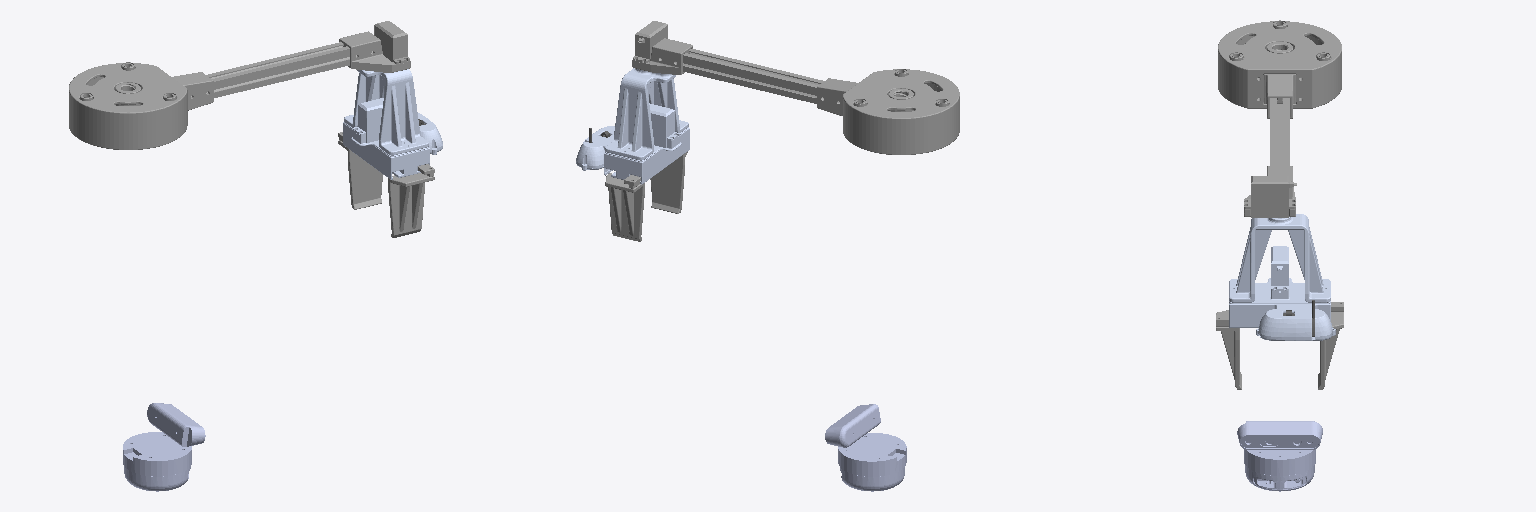
robot.urdf — robot_description:
<?xml version="1.0" encoding="utf-8"?>
<!-- This URDF was automatically created by SolidWorks to URDF Exporter! Originally created by Stephen Brawner (brawner@gmail.com) 
     Commit Version: 1.6.0-4-g7f85cfe  Build Version: 1.6.7995.38578
     For more information, please see http://wiki.ros.org/sw_urdf_exporter -->
<robot
  name="robot_description">
  <link
    name="base_link">
    <inertial>
      <origin
        xyz="-0.034206 -0.002397 0.14483"
        rpy="0 0 0" />
      <mass
        value="7.5407" />
      <inertia
        ixx="0.027945"
        ixy="0.00029698"
        ixz="-8.7589E-06"
        iyy="0.031422"
        iyz="-6.7542E-06"
        izz="0.049066" />
    </inertial>
    <visual>
      <origin
        xyz="0 0 0"
        rpy="0 0 0" />
      <geometry>
        <mesh
          filename="package://robot_description/meshes/base_link.STL" />
      </geometry>
      <material
        name="">
        <color
          rgba="0.96863 0.96863 0.96863 1" />
      </material>
    </visual>
    <collision>
      <origin
        xyz="0 0 0"
        rpy="0 0 0" />
      <geometry>
        <mesh
          filename="package://robot_description/meshes/base_link.STL" />
      </geometry>
    </collision>
  </link>
  <link
    name="realsense_link">
    <inertial>
      <origin
        xyz="-0.0093119 0.011675 -9.1029E-08"
        rpy="0 0 0" />
      <mass
        value="0.04367" />
      <inertia
        ixx="2.6188E-05"
        ixy="2.9211E-07"
        ixz="-1.0282E-11"
        iyy="3.827E-06"
        iyz="-4.6221E-13"
        izz="2.6361E-05" />
    </inertial>
    <visual>
      <origin
        xyz="0 0 0"
        rpy="0 0 0" />
      <geometry>
        <mesh
          filename="package://robot_description/meshes/realsense_link.STL" />
      </geometry>
      <material
        name="">
        <color
          rgba="0.79216 0.81961 0.93333 1" />
      </material>
    </visual>
    <collision>
      <origin
        xyz="0 0 0"
        rpy="0 0 0" />
      <geometry>
        <mesh
          filename="package://robot_description/meshes/realsense_link.STL" />
      </geometry>
    </collision>
  </link>
  <joint
    name="realsense_joint"
    type="fixed">
    <origin
      xyz="0.28778 -0.01075 0.078041"
      rpy="0 0.17453 0" />
    <parent
      link="base_link" />
    <child
      link="realsense_link" />
    <axis
      xyz="0 0 0" />
  </joint>
  <link
    name="lidar_link">
    <inertial>
      <origin
        xyz="-0.00057135 -1.4925E-05 -0.011704"
        rpy="0 0 0" />
      <mass
        value="0.16535" />
      <inertia
        ixx="7.8847E-05"
        ixy="4.8471E-08"
        ixz="2.1973E-06"
        iyy="7.5152E-05"
        iyz="2.8868E-08"
        izz="0.0001099" />
    </inertial>
    <visual>
      <origin
        xyz="0 0 0"
        rpy="0 0 0" />
      <geometry>
        <mesh
          filename="package://robot_description/meshes/lidar_link.STL" />
      </geometry>
      <material
        name="">
        <color
          rgba="0.79216 0.81961 0.93333 1" />
      </material>
    </visual>
    <collision>
      <origin
        xyz="0 0 0"
        rpy="0 0 0" />
      <geometry>
        <mesh
          filename="package://robot_description/meshes/lidar_link.STL" />
      </geometry>
    </collision>
  </link>
  <joint
    name="lidar_joint"
    type="fixed">
    <origin
      xyz="0.256 0 0.0275"
      rpy="3.1416 0 0" />
    <parent
      link="base_link" />
    <child
      link="lidar_link" />
    <axis
      xyz="0 0 0" />
  </joint>
  <link
    name="plat_link">
    <inertial>
      <origin
        xyz="0.00028579 -6.5258E-07 0.30216"
        rpy="0 0 0" />
      <mass
        value="2.4228" />
      <inertia
        ixx="0.02794"
        ixy="4.2626E-09"
        ixz="1.1416E-05"
        iyy="0.02792"
        iyz="7.5625E-09"
        izz="0.0013138" />
    </inertial>
    <visual>
      <origin
        xyz="0 0 0"
        rpy="0 0 0" />
      <geometry>
        <mesh
          filename="package://robot_description/meshes/plat_link.STL" />
      </geometry>
      <material
        name="">
        <color
          rgba="0.69804 0.69804 0.69804 1" />
      </material>
    </visual>
    <collision>
      <origin
        xyz="0 0 0"
        rpy="0 0 0" />
      <geometry>
        <mesh
          filename="package://robot_description/meshes/plat_link.STL" />
      </geometry>
    </collision>
  </link>
  <joint
    name="plat_joint"
    type="revolute">
    <origin
      xyz="0.219 0 0.1355"
      rpy="0 0 0" />
    <parent
      link="base_link" />
    <child
      link="plat_link" />
    <axis
      xyz="0 0 1" />
    <limit
      lower="-3.491"
      upper="3.491"
      effort="100"
      velocity="0.8727" />
  </joint>
  <link
    name="elev_link">
    <inertial>
      <origin
        xyz="0.058866 -0.00077343 0.34304"
        rpy="0 0 0" />
      <mass
        value="0.70977" />
      <inertia
        ixx="0.00048863"
        ixy="1.565E-06"
        ixz="-3.5651E-06"
        iyy="0.00091576"
        iyz="-1.5426E-06"
        izz="0.0012262" />
    </inertial>
    <visual>
      <origin
        xyz="0 0 0"
        rpy="0 0 0" />
      <geometry>
        <mesh
          filename="package://robot_description/meshes/elev_link.STL" />
      </geometry>
      <material
        name="">
        <color
          rgba="0.69804 0.69804 0.69804 1" />
      </material>
    </visual>
    <collision>
      <origin
        xyz="0 0 0"
        rpy="0 0 0" />
      <geometry>
        <mesh
          filename="package://robot_description/meshes/elev_link.STL" />
      </geometry>
    </collision>
  </link>
  <joint
    name="elev_joint"
    type="prismatic">
    <origin
      xyz="0 0 0"
      rpy="0 0 0" />
    <parent
      link="plat_link" />
    <child
      link="elev_link" />
    <axis
      xyz="0 0 1" />
    <limit
      lower="0"
      upper="0.3"
      effort="100"
      velocity="0.05" />
  </joint>
  <link
    name="pulso_link">
    <inertial>
      <origin
        xyz="0.0030145 0.0018825 -0.12017"
        rpy="0 0 0" />
      <mass
        value="0.2678" />
      <inertia
        ixx="0.00029745"
        ixy="-1.2739E-05"
        ixz="-1.225E-06"
        iyy="0.0001697"
        iyz="-1.8633E-06"
        izz="0.00028197" />
    </inertial>
    <visual>
      <origin
        xyz="0 0 0"
        rpy="0 0 0" />
      <geometry>
        <mesh
          filename="package://robot_description/meshes/pulso_link.STL" />
      </geometry>
      <material
        name="">
        <color
          rgba="0.86667 0.9098 1 1" />
      </material>
    </visual>
    <collision>
      <origin
        xyz="0 0 0"
        rpy="0 0 0" />
      <geometry>
        <mesh
          filename="package://robot_description/meshes/pulso_link.STL" />
      </geometry>
    </collision>
  </link>
  <joint
    name="pulso_joint"
    type="revolute">
    <origin
      xyz="0.32581 0 0.36404"
      rpy="0 0 0" />
    <parent
      link="elev_link" />
    <child
      link="pulso_link" />
    <axis
      xyz="0 0 -1" />
    <limit
      lower="-0.7854"
      upper="0.7854"
      effort="100"
      velocity="0.5236" />
  </joint>
  <link
    name="garra1_link">
    <inertial>
      <origin
        xyz="-0.0050164 -0.041901 -0.058499"
        rpy="0 0 0" />
      <mass
        value="0.04339" />
      <inertia
        ixx="2.0741E-05"
        ixy="-9.1194E-08"
        ixz="-1.6141E-07"
        iyy="1.9114E-05"
        iyz="-1.9833E-06"
        izz="9.6761E-06" />
    </inertial>
    <visual>
      <origin
        xyz="0 0 0"
        rpy="0 0 0" />
      <geometry>
        <mesh
          filename="package://robot_description/meshes/garra1_link.STL" />
      </geometry>
      <material
        name="">
        <color
          rgba="0.69804 0.69804 0.69804 1" />
      </material>
    </visual>
    <collision>
      <origin
        xyz="0 0 0"
        rpy="0 0 0" />
      <geometry>
        <mesh
          filename="package://robot_description/meshes/garra1_link.STL" />
      </geometry>
    </collision>
  </link>
  <joint
    name="garra1_joint"
    type="prismatic">
    <origin
      xyz="0 0 -0.23575"
      rpy="3.1416 0 0" />
    <parent
      link="pulso_link" />
    <child
      link="garra1_link" />
    <axis
      xyz="0 1 0" />
    <limit
      lower="0"
      upper="0"
      effort="0"
      velocity="0" />
    <mimic
      joint="garra2_joint"
      multiplier="-1"
      offset="0" />
  </joint>
  <link
    name="garra2_link">
    <inertial>
      <origin
        xyz="0.0050164 0.041901 -0.058499"
        rpy="0 0 0" />
      <mass
        value="0.04339" />
      <inertia
        ixx="2.0741E-05"
        ixy="-9.1194E-08"
        ixz="1.6141E-07"
        iyy="1.9114E-05"
        iyz="1.9833E-06"
        izz="9.6761E-06" />
    </inertial>
    <visual>
      <origin
        xyz="0 0 0"
        rpy="0 0 0" />
      <geometry>
        <mesh
          filename="package://robot_description/meshes/garra2_link.STL" />
      </geometry>
      <material
        name="">
        <color
          rgba="0.69804 0.69804 0.69804 1" />
      </material>
    </visual>
    <collision>
      <origin
        xyz="0 0 0"
        rpy="0 0 0" />
      <geometry>
        <mesh
          filename="package://robot_description/meshes/garra2_link.STL" />
      </geometry>
    </collision>
  </link>
  <joint
    name="garra2_joint"
    type="prismatic">
    <origin
      xyz="0 0 -0.23575"
      rpy="3.1416 0 0" />
    <parent
      link="pulso_link" />
    <child
      link="garra2_link" />
    <axis
      xyz="0 -1 0" />
    <limit
      lower="0"
      upper="0.03"
      effort="100"
      velocity="0.03" />
  </joint>
  <link
    name="tcp_link">
    <inertial>
      <origin
        xyz="-1.4211E-14 -3.4639E-14 -0.097259"
        rpy="0 0 0" />
      <mass
        value="0.0064227" />
      <inertia
        ixx="2.9937E-07"
        ixy="5.7732E-22"
        ixz="-5.8995E-22"
        iyy="2.9937E-07"
        iyz="8.7559E-22"
        izz="5.3479E-07" />
    </inertial>
    <visual>
      <origin
        xyz="0 0 0"
        rpy="0 0 0" />
      <geometry>
        <mesh
          filename="package://robot_description/meshes/tcp_link.STL" />
      </geometry>
      <material
        name="">
        <color
          rgba="0.86667 0.9098 1 1" />
      </material>
    </visual>
    <collision>
      <origin
        xyz="0 0 0"
        rpy="0 0 0" />
      <geometry>
        <mesh
          filename="package://robot_description/meshes/tcp_link.STL" />
      </geometry>
    </collision>
  </link>
  <joint
    name="tcp_joint"
    type="fixed">
    <origin
      xyz="0 0 -0.23575"
      rpy="3.1416 0 0" />
    <parent
      link="pulso_link" />
    <child
      link="tcp_link" />
    <axis
      xyz="0 0 0" />
  </joint>
  <link
    name="webcam_link">
    <inertial>
      <origin
        xyz="-0.01643 -1.8625E-05 -0.0080758"
        rpy="0 0 0" />
      <mass
        value="0.030406" />
      <inertia
        ixx="2.6271E-06"
        ixy="-1.0402E-08"
        ixz="-1.6342E-08"
        iyy="1.0487E-05"
        iyz="-1.1152E-08"
        izz="1.1358E-05" />
    </inertial>
    <visual>
      <origin
        xyz="0 0 0"
        rpy="0 0 0" />
      <geometry>
        <mesh
          filename="package://robot_description/meshes/webcam_link.STL" />
      </geometry>
      <material
        name="">
        <color
          rgba="0.43922 0.43922 0.43922 1" />
      </material>
    </visual>
    <collision>
      <origin
        xyz="0 0 0"
        rpy="0 0 0" />
      <geometry>
        <mesh
          filename="package://robot_description/meshes/webcam_link.STL" />
      </geometry>
    </collision>
  </link>
  <joint
    name="webcam_joint"
    type="fixed">
    <origin
      xyz="0.0475 0 -0.15425"
      rpy="3.1416 0 -1.5708" />
    <parent
      link="pulso_link" />
    <child
      link="webcam_link" />
    <axis
      xyz="0 0 0" />
  </joint>
</robot>

--- Facts derived from the render (not from the file) ---
The picture shows the robot from 3 angles, left to right: view 1: azimuth 30°, elevation 25°; view 2: azimuth 150°, elevation 25°; view 3: azimuth 270°, elevation 25°; orthographic projection.
Model robot_description with 10 links and 9 joints (2 revolute, 3 prismatic, 4 fixed), rooted at base_link, posed all joints at 0.
Visible links, largest first — view 1: elev_link, pulso_link, lidar_link, garra2_link, garra1_link, realsense_link; view 2: elev_link, pulso_link, lidar_link, garra1_link, realsense_link, garra2_link; view 3: elev_link, pulso_link, lidar_link, realsense_link, garra2_link, garra1_link.
Link boxes in pixels (<box>): elev_link: <box>69,21,410,149</box>; pulso_link: <box>343,69,442,179</box>; lidar_link: <box>123,432,191,491</box>; garra2_link: <box>388,164,434,237</box>; garra1_link: <box>338,132,382,209</box>; realsense_link: <box>147,403,205,446</box>; elev_link: <box>632,21,959,154</box>; pulso_link: <box>576,68,689,184</box>; lidar_link: <box>838,433,906,491</box>; garra1_link: <box>605,173,644,241</box>; realsense_link: <box>825,404,880,447</box>; garra2_link: <box>650,152,687,213</box>; elev_link: <box>1218,20,1341,217</box>; pulso_link: <box>1229,214,1335,340</box>; lidar_link: <box>1244,449,1315,491</box>; realsense_link: <box>1237,421,1322,449</box>; garra2_link: <box>1216,310,1241,389</box>; garra1_link: <box>1318,302,1343,389</box>.
Bounding box of the posed robot: 0.4572 × 0.1344 × 0.485 m (x, y, z).
8 mesh visuals loaded from 10 distinct referenced files (8 binary STL); not drawn: 2 (reference not matched to a file when rendering).
